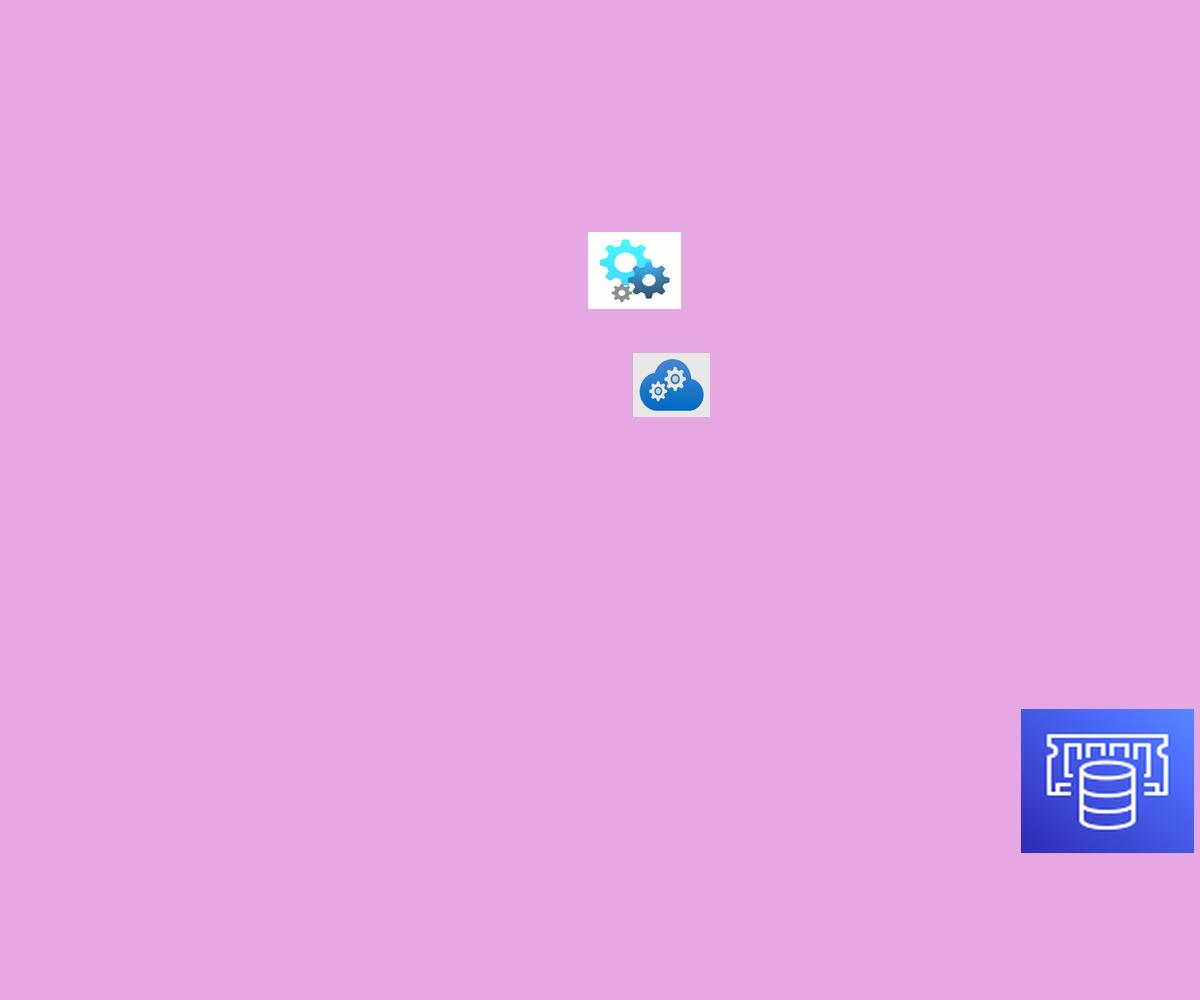AWS-ElastiCache: (1021, 709, 1194, 853)
Azure_api: (588, 232, 681, 309)
Azure_cloud_services: (633, 353, 710, 417)
